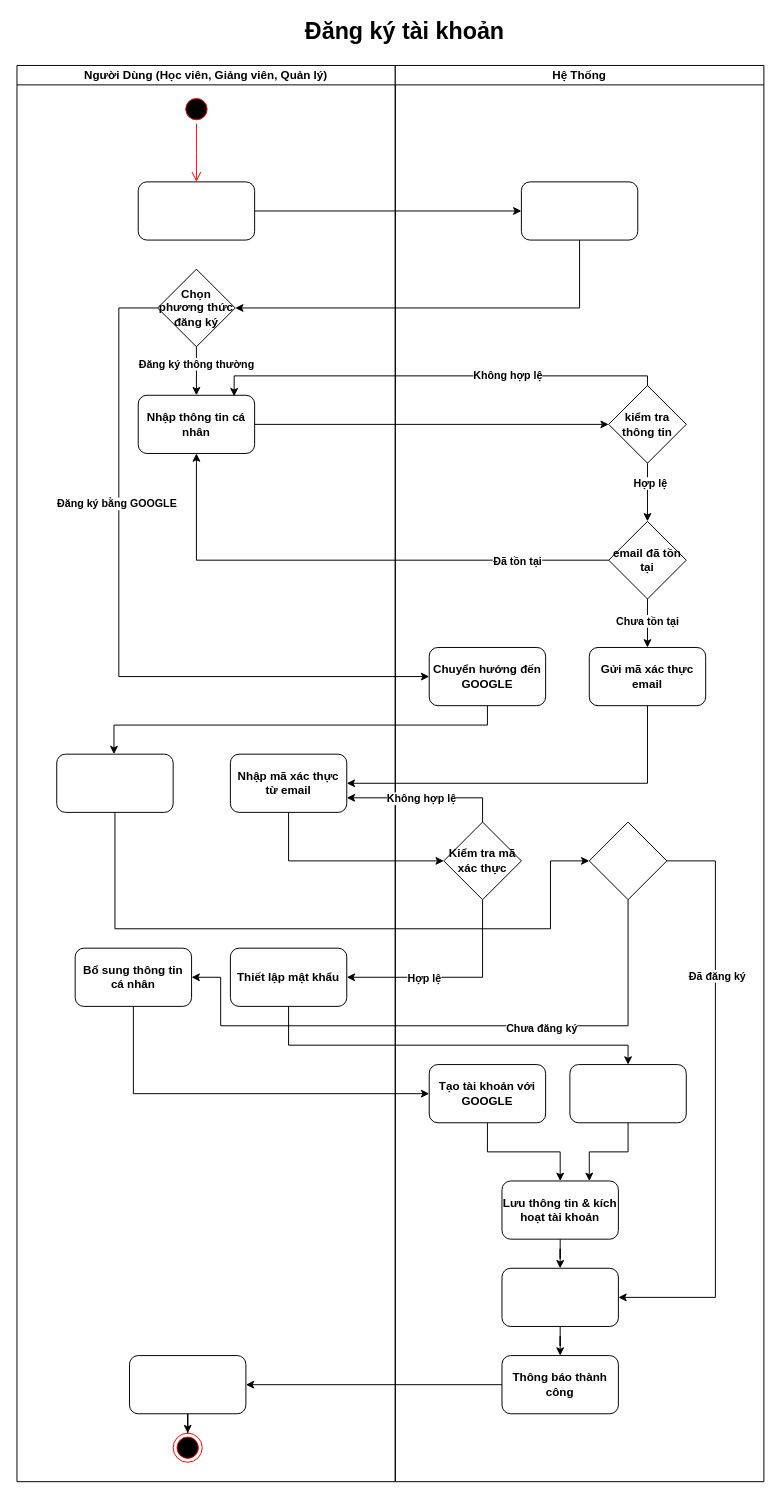
Image size: 781x1499. Some labels were removed from this diagram. Here are the shapes that lost their labels. From the top down, the centre of each, then its label:
[196,210]: Truy cập hệ thống
[579,210]: Hiển thị form đăng ký tài khoản
[114,782]: Xác thực tài khoản GOOGLE
[627,860]: Email đã đăng ký
[627,1093]: Tạo tài khoản mới
[559,1296]: Hoàn tất đăng ký
[187,1384]: Truy cập trang chủ
